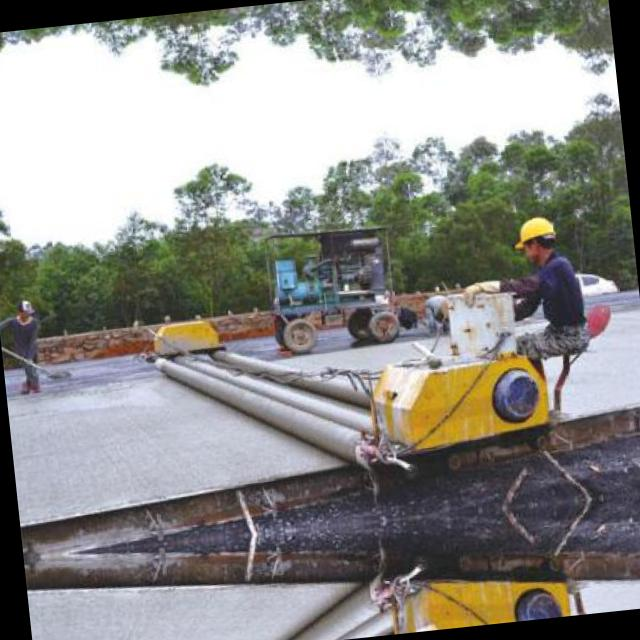helmet: (512, 210, 560, 268)
